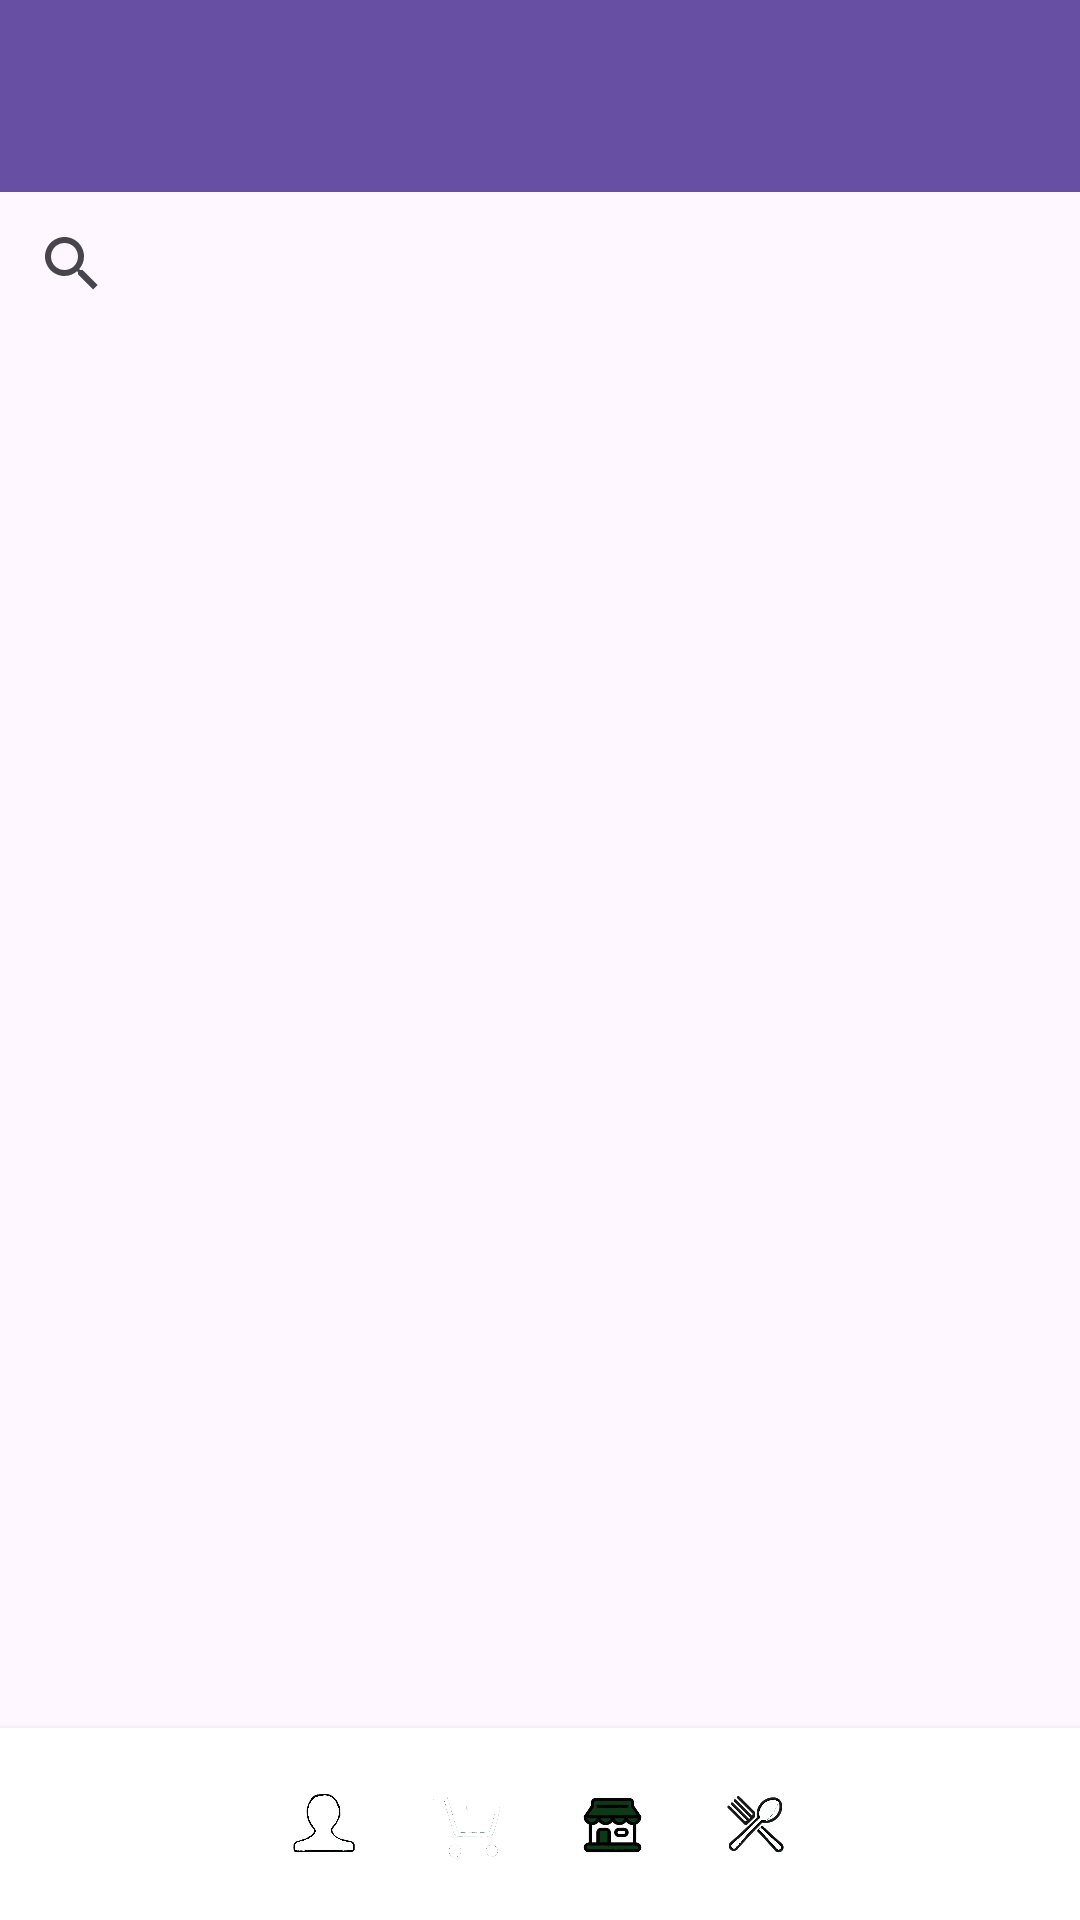

Screen size 1080px×1920px. Icon name, then its box in pixels as [x1=x1, y1=y1, x2=x2, y2=y2]:
Perfil: [x1=293, y1=1794, x2=355, y2=1852]
Restaurante: [x1=727, y1=1796, x2=784, y2=1853]
Supermercado: [x1=583, y1=1798, x2=642, y2=1852]
